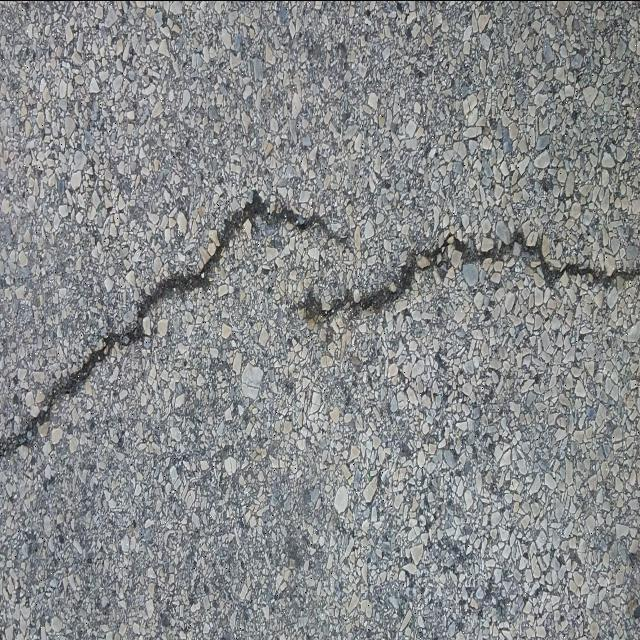Crack: (0, 189, 348, 458), (297, 226, 640, 323)
